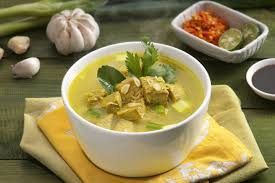soto: (70, 40, 213, 141)
